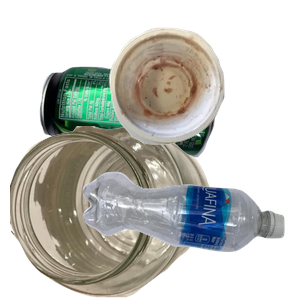glass: (10, 126, 216, 300)
metal: (37, 64, 245, 214)
plastic: (80, 169, 300, 300)
trash: (107, 25, 300, 162)
